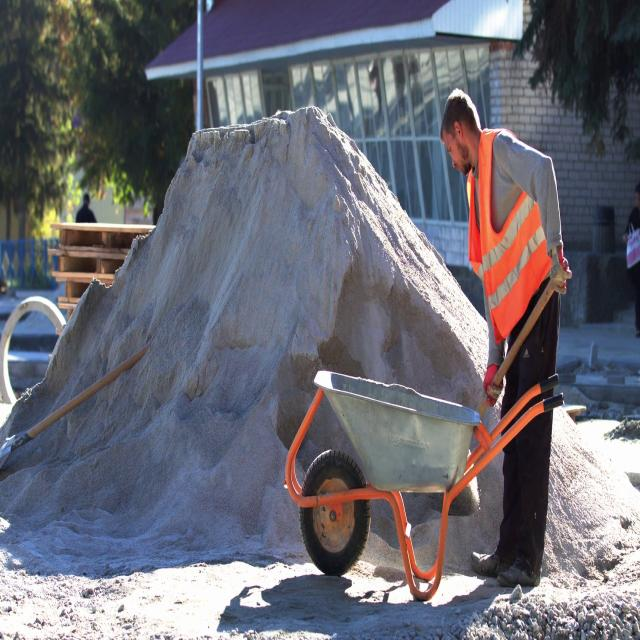gloved: (548, 246, 572, 294), (483, 363, 504, 406)
